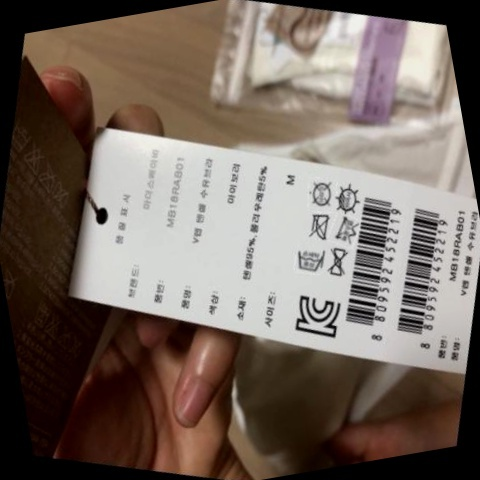DN_dry_clean: (305, 175, 338, 211)
DN_iron: (303, 209, 337, 243)
DN_wring: (326, 246, 357, 278)
dry_flat_in_shade: (334, 179, 363, 212)
hand_wash: (293, 243, 331, 276)
non_chlorine_bleach: (337, 214, 365, 244)
